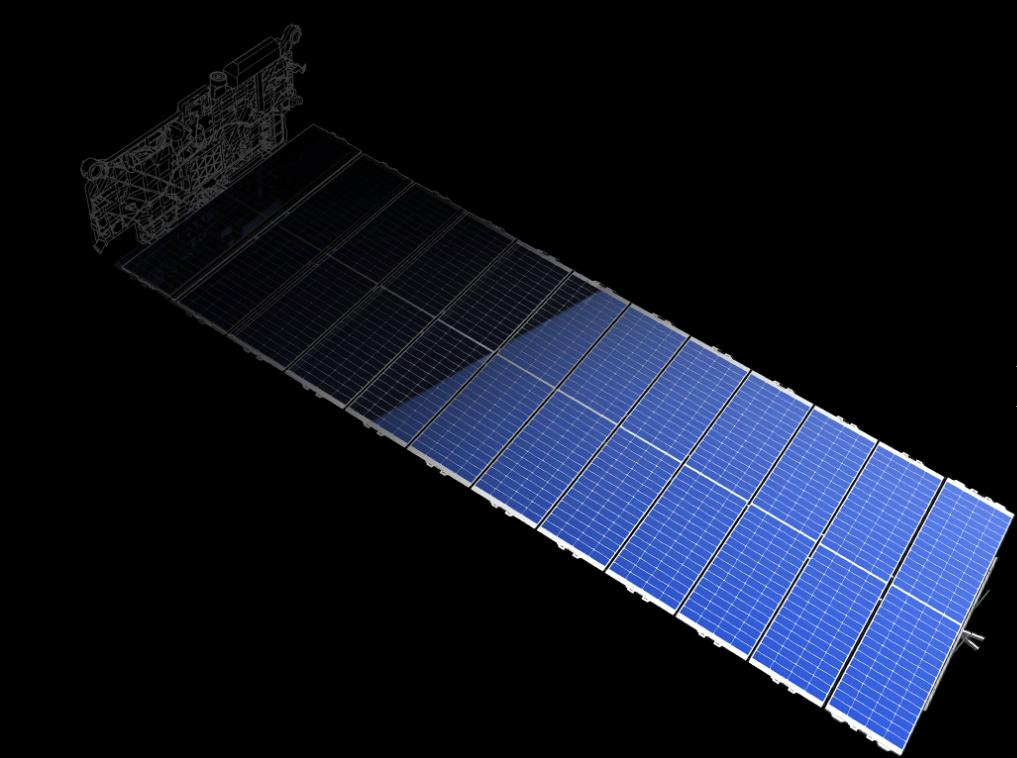solar: (118, 121, 1017, 758)
